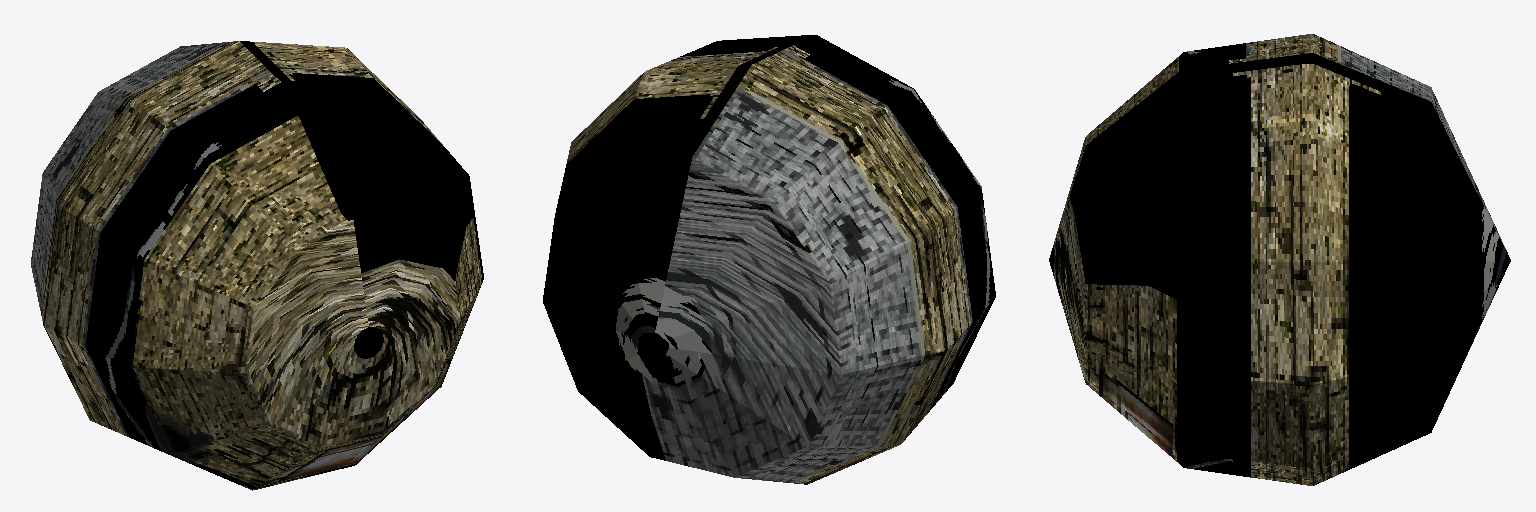
3 views of the same model, side by side, from view 1: azimuth 30°, elevation 25°; view 2: azimuth 150°, elevation 25°; view 3: azimuth 270°, elevation 25° (orthographic).
Visible parts, largest first — view 1: TRY2; view 2: TRY2; view 3: TRY2.
Boxes of the visible parts, box(x1,y1,x2,y2) form: TRY2: box(31, 41, 483, 490); TRY2: box(543, 35, 995, 484); TRY2: box(1049, 34, 1510, 485).
Size of the model in its own units: 22.76 by 22.52 by 23.23.
1 materials, 1 textured.